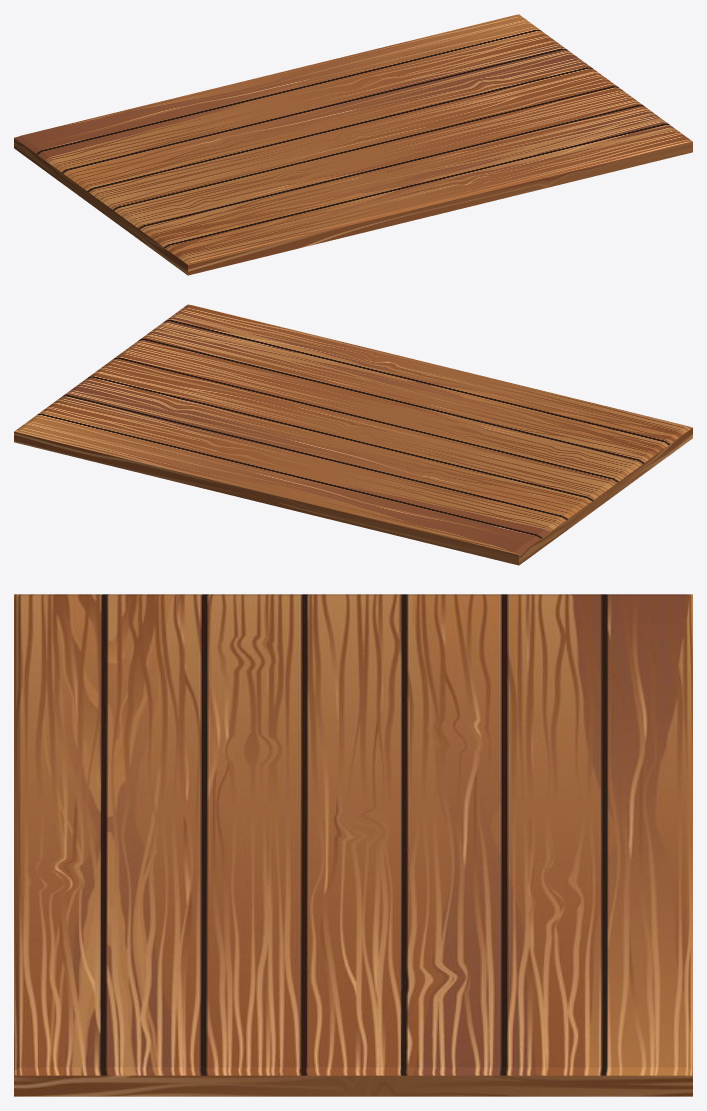
Rendered from parquet.fbx.
3 renders of one model, top to bottom at view 1: azimuth 30°, elevation 25°; view 2: azimuth 150°, elevation 25°; view 3: azimuth 270°, elevation 25°, orthographic. The views are drawn at different scales.
Visible parts, largest first — view 1: Cube; view 2: Cube; view 3: Cube.
Boxes of the visible parts, x1,y1,x2,y2 form: Cube: [14, 14, 692, 275]; Cube: [14, 304, 692, 565]; Cube: [14, 594, 692, 1096].
Bounding box in the file's own units: 480 × 11.39 × 286.
